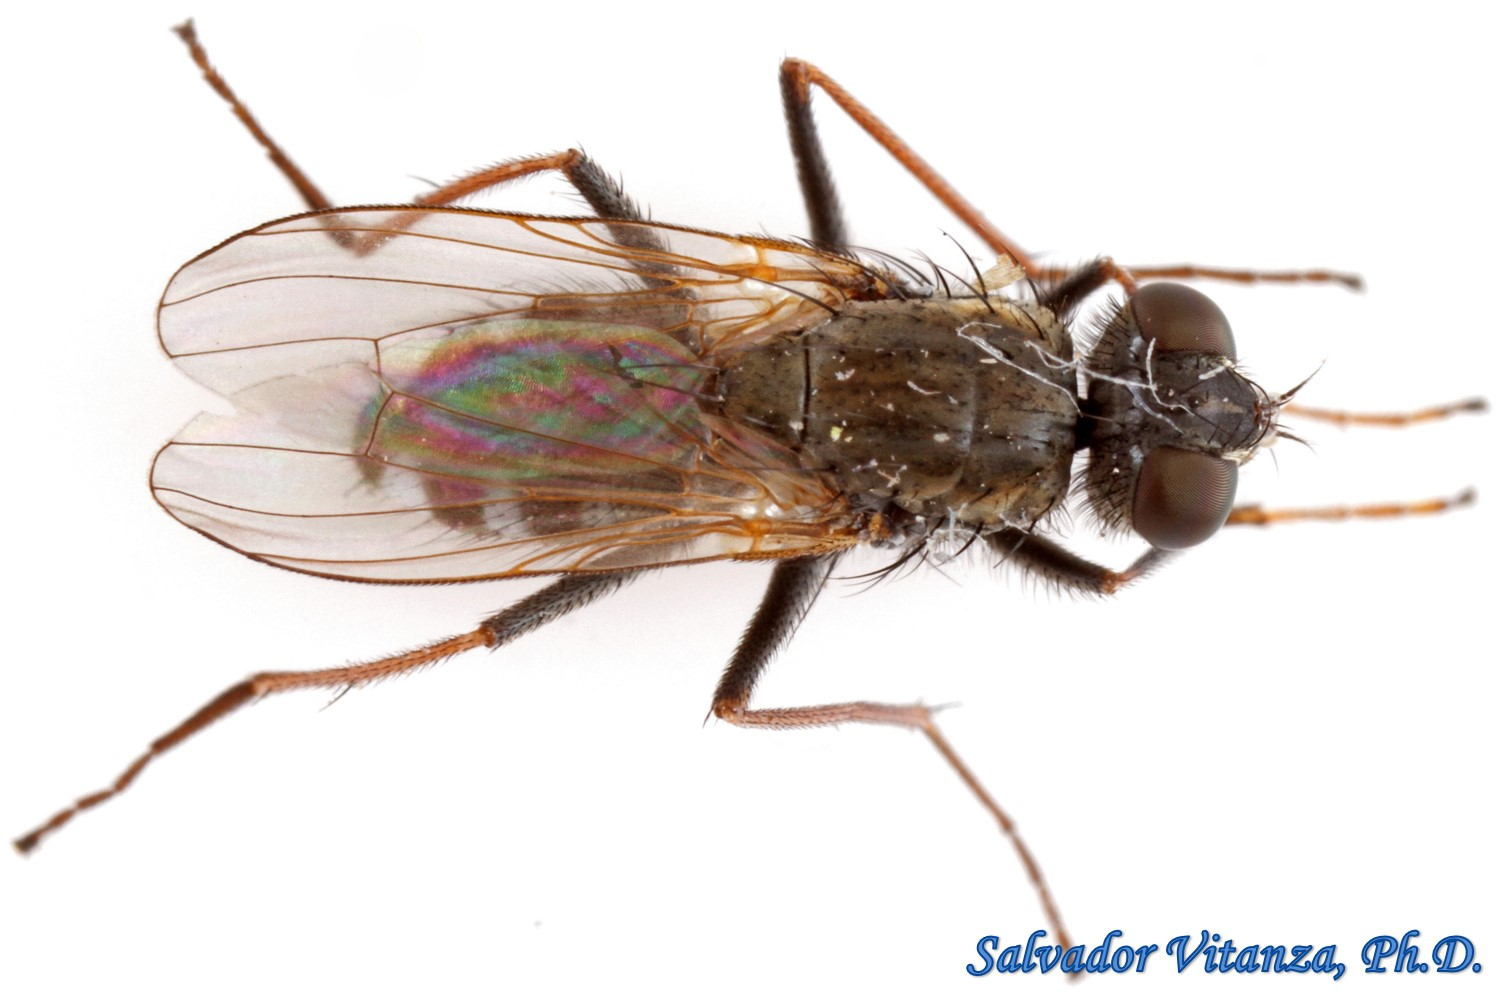house fly: (18, 16, 1487, 956)
